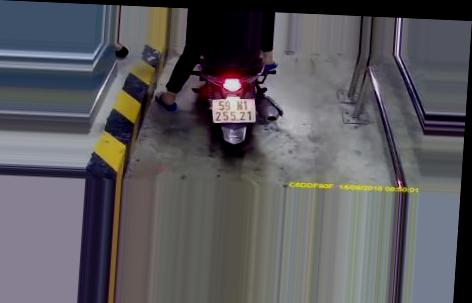License_Plate: (206, 96, 259, 129)
